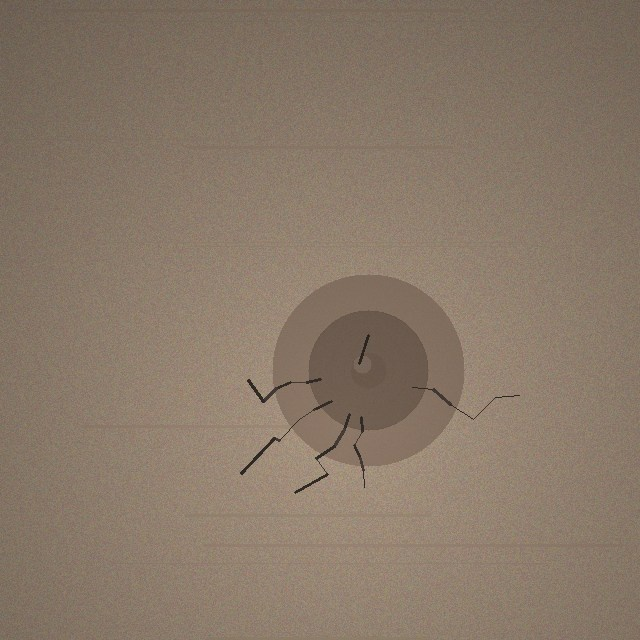crack: (272, 274, 464, 466)
